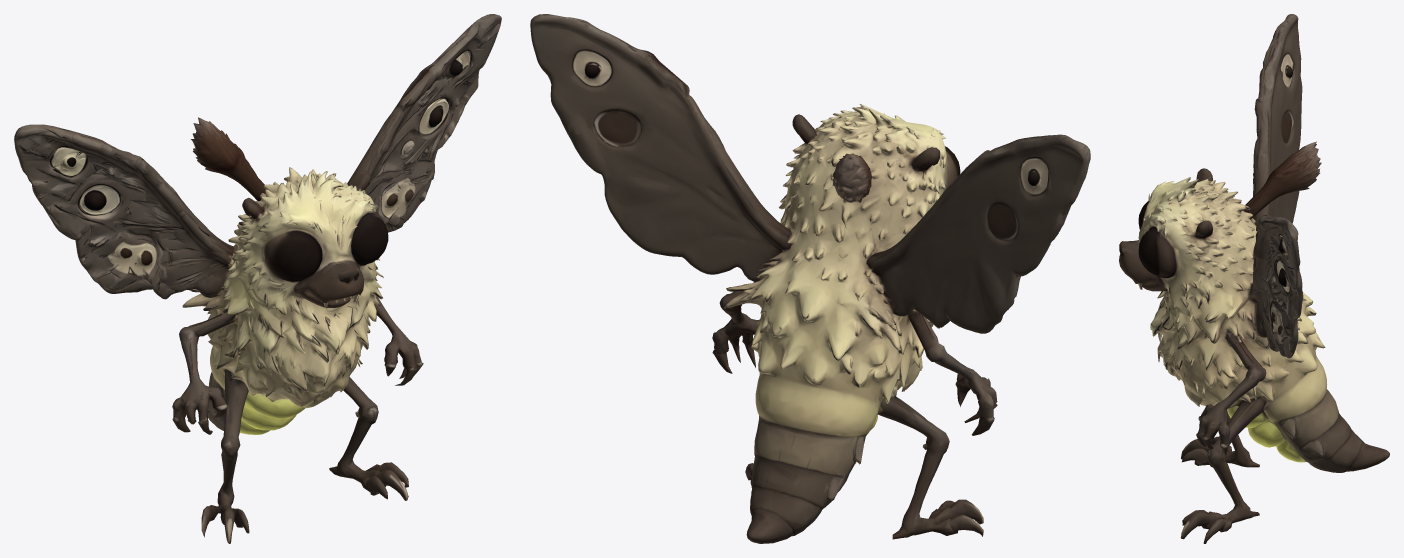
The model's file is fluorescent_moth.glb.
The picture shows the model from 3 angles, left to right: view 1: azimuth 30°, elevation 25°; view 2: azimuth 150°, elevation 25°; view 3: azimuth 270°, elevation 25°; orthographic projection. The views are drawn at different scales.
Parts seen in each view (by area): view 1: fluorescent_moth; view 2: fluorescent_moth; view 3: fluorescent_moth.
Part boxes in pixels (left/top/right/bottom): fluorescent_moth: left=14, top=14, right=501, bottom=543; fluorescent_moth: left=530, top=14, right=1090, bottom=543; fluorescent_moth: left=1119, top=14, right=1389, bottom=543.
Bounding box in the file's own units: 1.99 × 1.6 × 1.04.
Materials: 1 (1 with a texture image).
